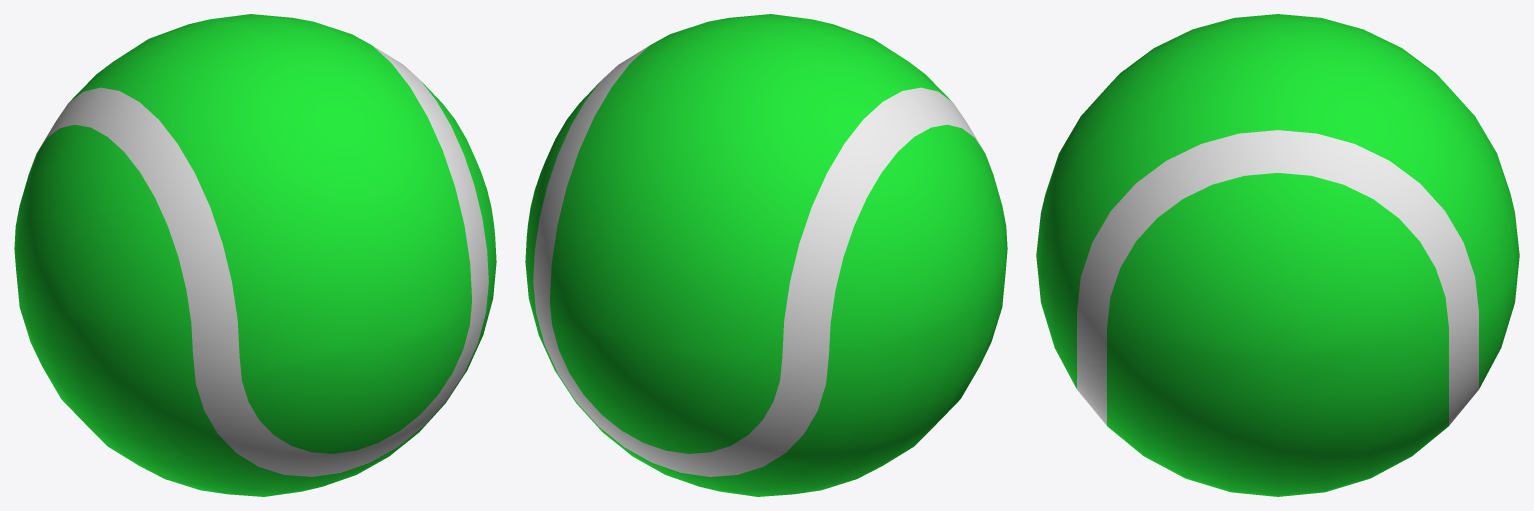
Rendered from TennisBall.fbx.
3 renders of one model, left to right at view 1: azimuth 30°, elevation 25°; view 2: azimuth 150°, elevation 25°; view 3: azimuth 270°, elevation 25°, orthographic.
Parts seen in each view (by area): view 1: Tennis Ball; view 2: Tennis Ball; view 3: Tennis Ball.
Boxes of the visible parts, box(x1,y1,x2,y2) form: Tennis Ball: box(14, 14, 496, 496); Tennis Ball: box(525, 14, 1007, 496); Tennis Ball: box(1036, 14, 1519, 496).
Bounding box in the file's own units: 2 × 2 × 2.
